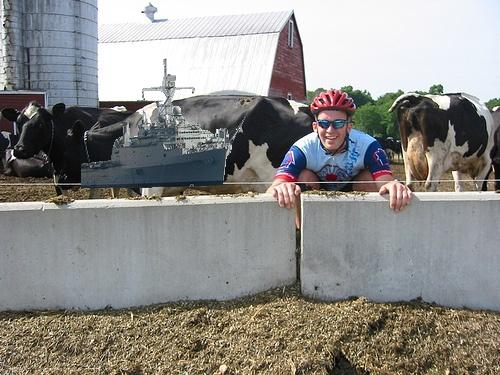tampered: (82, 59, 248, 188)
